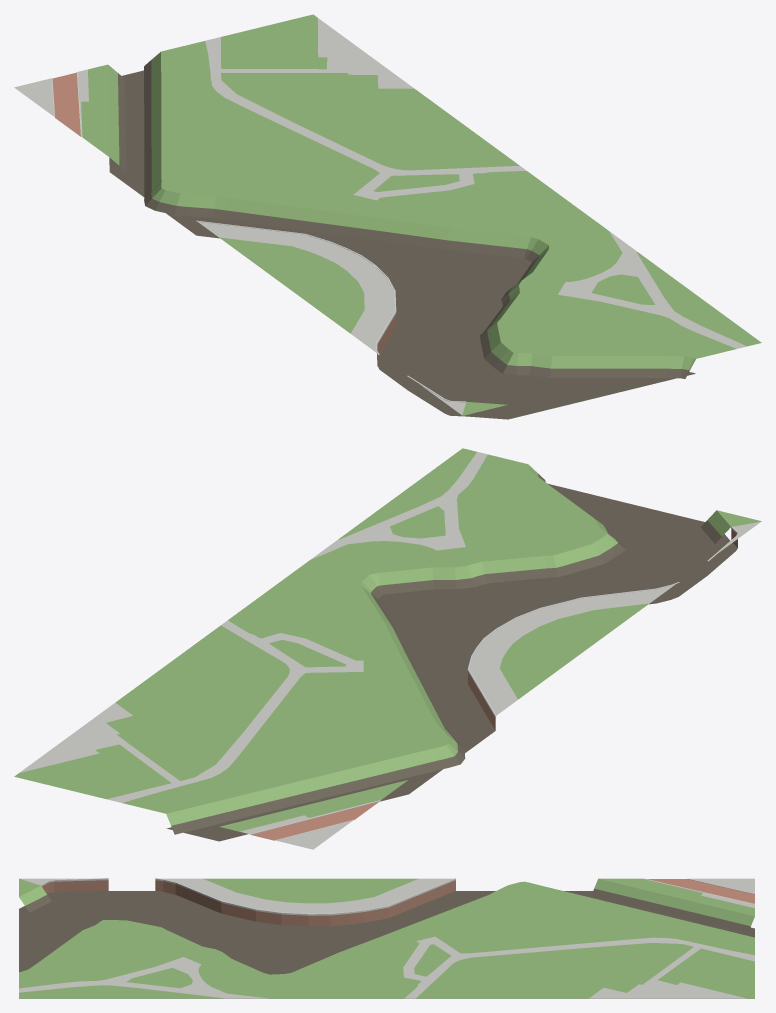
The model's file is ground_13_8.glb.
The picture shows the model from 3 angles, top to bottom: view 1: azimuth 30°, elevation 25°; view 2: azimuth 150°, elevation 25°; view 3: azimuth 270°, elevation 25°; orthographic projection. The views are drawn at different scales.
Visible parts, largest first — view 1: ground_13_8; view 2: ground_13_8; view 3: ground_13_8.
Boxes of the visible parts, x1,y1,x2,y2 form: ground_13_8: [14, 14, 761, 419]; ground_13_8: [14, 448, 761, 849]; ground_13_8: [19, 878, 754, 998].
Size of the model in its own units: 79.11 by 3.68 by 203.
